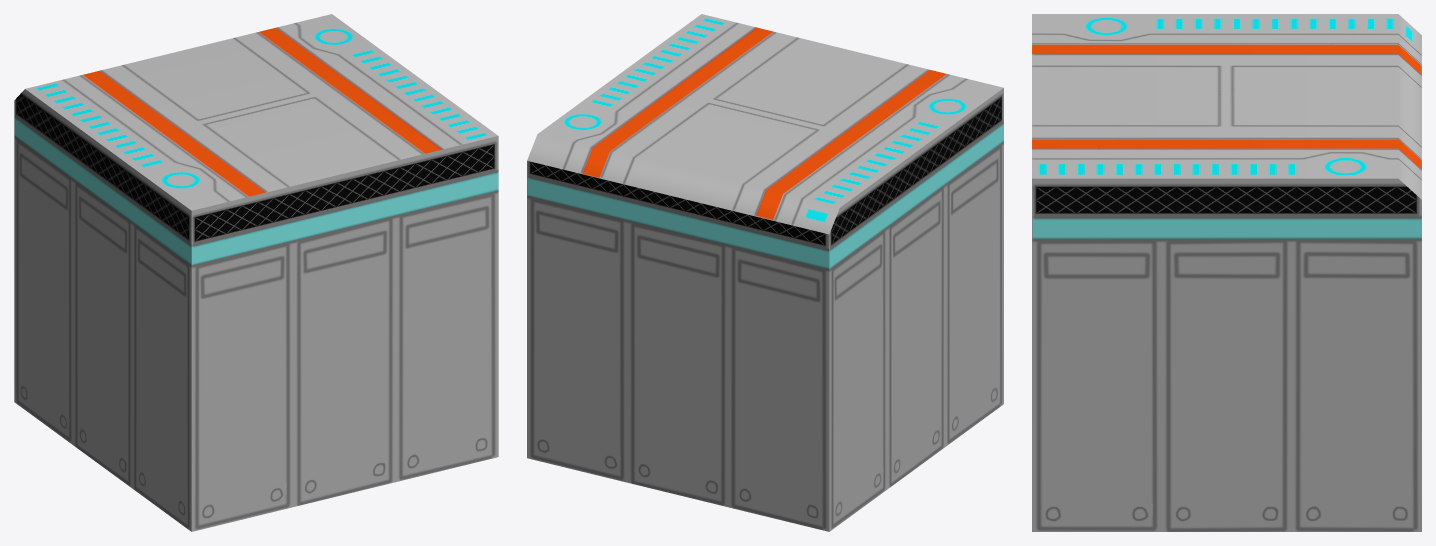
File: base_block_up.fbx
3 views of the same model, side by side, from view 1: azimuth 30°, elevation 25°; view 2: azimuth 150°, elevation 25°; view 3: azimuth 270°, elevation 25° (orthographic). The views are drawn at different scales.
Parts seen in each view (by area): view 1: base_block_up; view 2: base_block_up; view 3: base_block_up.
Part boxes in pixels (<box>): base_block_up: <box>14,14,498,531</box>; base_block_up: <box>527,14,1003,531</box>; base_block_up: <box>1032,14,1421,531</box>.
Bounding box in the file's own units: 10 × 10 × 10.
